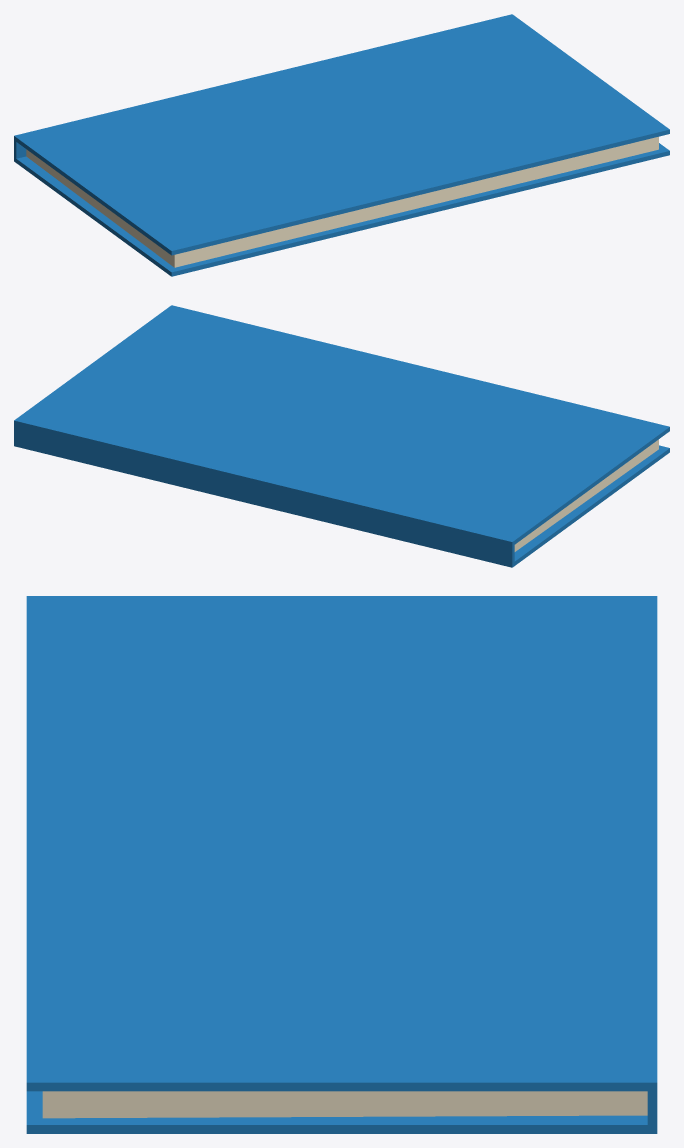
The model's file is Prop_Book_04.fbx.
3 renders of one model, top to bottom at view 1: azimuth 30°, elevation 25°; view 2: azimuth 150°, elevation 25°; view 3: azimuth 270°, elevation 25°, orthographic. The views are drawn at different scales.
Parts seen in each view (by area): view 1: Prop_Book_04; view 2: Prop_Book_04; view 3: Prop_Book_04.
Part boxes in pixels (<box>): Prop_Book_04: <box>14,14,669,276</box>; Prop_Book_04: <box>14,305,669,567</box>; Prop_Book_04: <box>26,596,657,1133</box>.
Bounding box in the file's own units: 39.96 × 1.97 × 21.9.
